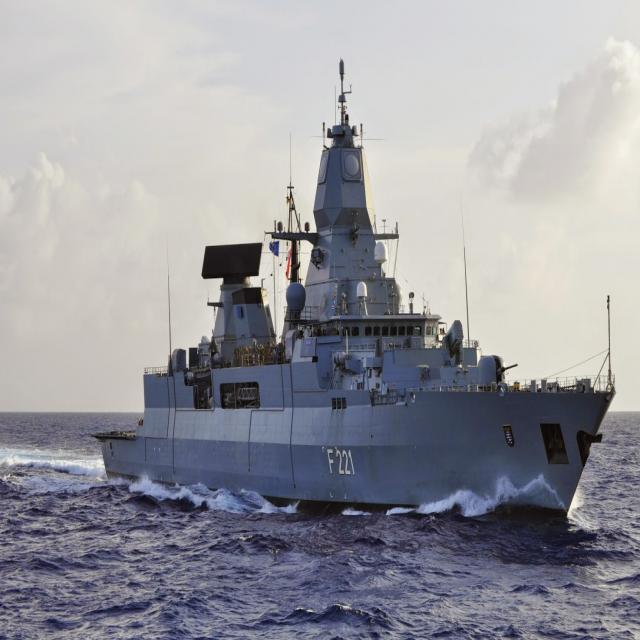Fragata: (1, 46, 410, 533)
